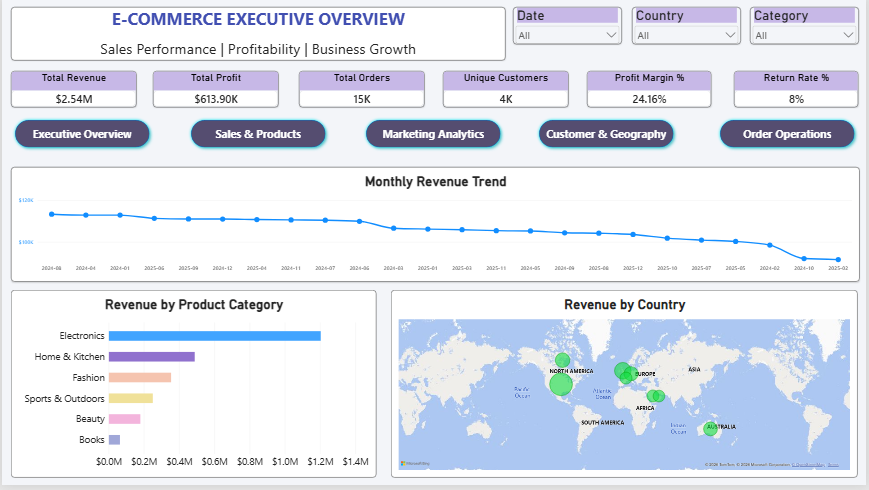

The dashboard page shown, as its layout file describes it:
{"tool":"powerbi","page":{"name":"01 Executive Overview","canvas":[1920,1080],"ordinal":0},"visuals":[{"type":"textbox","box":[19.1,17,1099.1,119.1],"z":0},{"type":"cardVisual","title":"Total Revenue","fields":{"Data":["ecommerce_analytics_dataset.Total Revenue"]},"box":[19.1,159.4,278.5,80.8],"z":1000},{"type":"cardVisual","title":"Total Profit","fields":{"Data":["ecommerce_analytics_dataset.Total Profit"]},"box":[335.9,159.4,278.5,80.8],"z":2000},{"type":"cardVisual","title":"Return Rate %","fields":{"Data":["ecommerce_analytics_dataset.Return Rate %"]},"box":[1626.4,159.4,276.4,80.8],"z":3000},{"type":"cardVisual","title":"Unique Customers","fields":{"Data":["ecommerce_analytics_dataset.Unique Customers"]},"box":[980.1,159.4,278.5,80.8],"z":4000},{"type":"cardVisual","title":"Total Orders","fields":{"Data":["ecommerce_analytics_dataset.Total Orders"]},"box":[659.1,159.4,278.5,80.8],"z":5000},{"type":"cardVisual","title":"Profit Margin %","fields":{"Data":["ecommerce_analytics_dataset.Profit Margin %"]},"box":[1299,159.4,276.4,80.8],"z":6000},{"type":"lineChart","title":"Monthly Revenue Trend","fields":{"Category":["DateTable.Year Month"],"Y":["ecommerce_analytics_dataset.Total Revenue"]},"box":[19.1,374.2,1885.7,255.1],"z":7000},{"type":"clusteredBarChart","title":"Revenue by Product Category","fields":{"Category":["ecommerce_analytics_dataset.Category"],"Y":["ecommerce_analytics_dataset.Total Revenue"]},"box":[19.1,646.3,812.1,416.7],"z":8000},{"type":"slicer","fields":{"Values":["DateTable.Date"]},"box":[1135.3,17,242.4,82.9],"z":8002},{"type":"slicer","fields":{"Values":["ecommerce_analytics_dataset.Country"]},"box":[1401,17,242.4,82.9],"z":8003},{"type":"slicer","fields":{"Values":["ecommerce_analytics_dataset.Category"]},"box":[1662.5,17,242.4,82.9],"z":8004},{"type":"map","title":"Revenue by Country","fields":{"Category":["ecommerce_analytics_dataset.Country"],"Size":["ecommerce_analytics_dataset.Total Revenue"]},"box":[865.3,646.3,1037.5,416.7],"z":8005},{"type":"shape","box":[19.1,259.4,316.8,78.7],"z":8006},{"type":"shape","box":[410.3,259.4,316.8,78.7],"z":8007},{"type":"shape","box":[799.4,259.4,316.8,78.7],"z":8008},{"type":"shape","box":[1184.2,259.4,316.8,78.7],"z":8009},{"type":"shape","box":[1586,259.4,316.8,78.7],"z":8010}]}

Visuals, with their boxes in screenshot pixels (x1, y1, x2, y2), scaled from the page's 1920x1080 canvas onto the 869x490 screenshot:
textbox: <bbox>9, 8, 506, 62</bbox>
"Total Revenue" cardVisual: <bbox>9, 72, 135, 109</bbox>
"Total Profit" cardVisual: <bbox>152, 72, 278, 109</bbox>
"Return Rate %" cardVisual: <bbox>736, 72, 861, 109</bbox>
"Unique Customers" cardVisual: <bbox>444, 72, 570, 109</bbox>
"Total Orders" cardVisual: <bbox>298, 72, 424, 109</bbox>
"Profit Margin %" cardVisual: <bbox>588, 72, 713, 109</bbox>
"Monthly Revenue Trend" lineChart: <bbox>9, 170, 862, 286</bbox>
"Revenue by Product Category" clusteredBarChart: <bbox>9, 293, 376, 482</bbox>
slicer - DateTable.Date: <bbox>514, 8, 624, 45</bbox>
slicer - ecommerce_analytics_dataset.Country: <bbox>634, 8, 744, 45</bbox>
slicer - ecommerce_analytics_dataset.Category: <bbox>752, 8, 862, 45</bbox>
"Revenue by Country" map: <bbox>392, 293, 861, 482</bbox>
shape: <bbox>9, 118, 152, 153</bbox>
shape: <bbox>186, 118, 329, 153</bbox>
shape: <bbox>362, 118, 505, 153</bbox>
shape: <bbox>536, 118, 679, 153</bbox>
shape: <bbox>718, 118, 861, 153</bbox>
